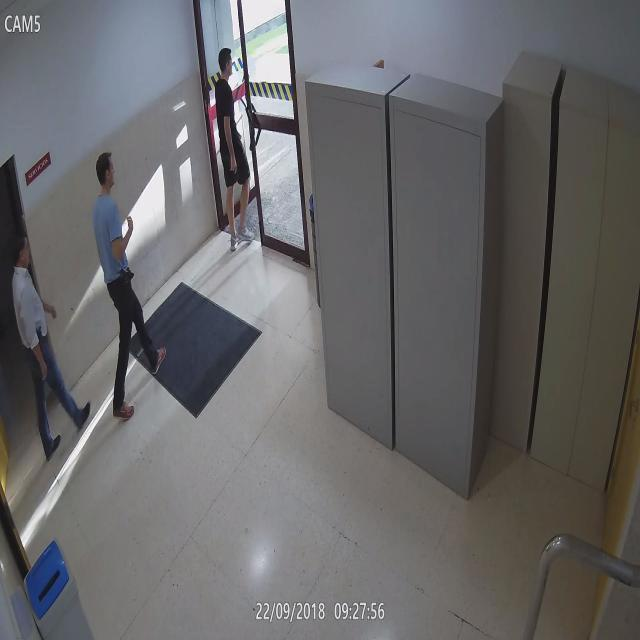weapon: (120, 270, 136, 296), (227, 167, 240, 186)
